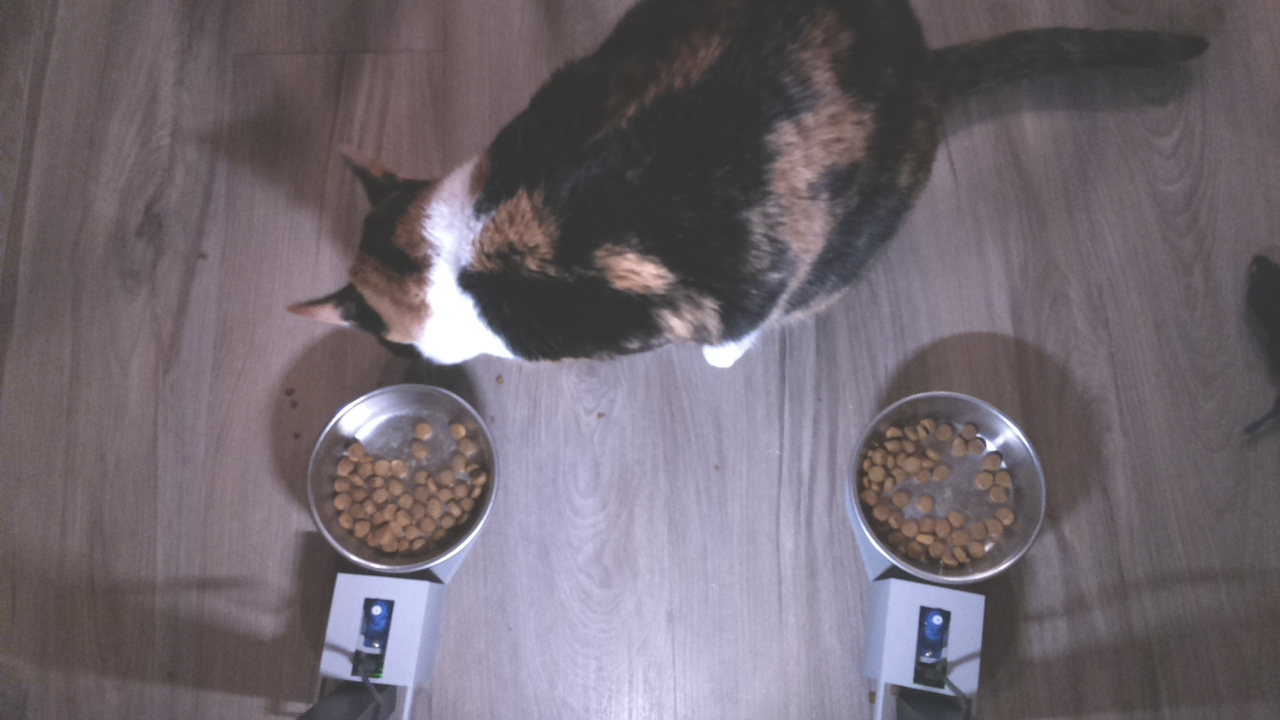bella: (276, 119, 526, 378)
open_bowl: (839, 383, 1059, 592), (307, 375, 507, 580)
